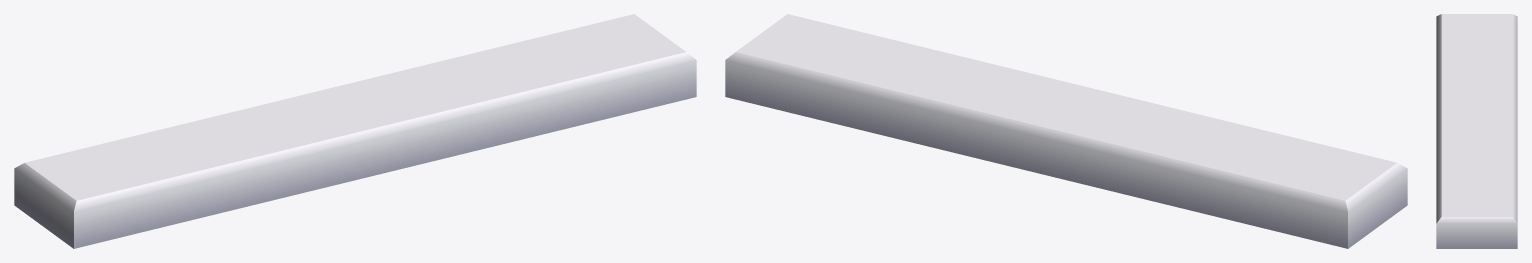
The model's file is none-hq-plate-1x6.glb.
The picture shows the model from 3 angles, left to right: view 1: azimuth 30°, elevation 25°; view 2: azimuth 150°, elevation 25°; view 3: azimuth 270°, elevation 25°; orthographic projection. The views are drawn at different scales.
Parts seen in each view (by area): view 1: none-hq-plate-1x6; view 2: none-hq-plate-1x6; view 3: none-hq-plate-1x6.
Part boxes in pixels (x1,y1,x2,y2): none-hq-plate-1x6: (14, 14, 696, 248); none-hq-plate-1x6: (725, 14, 1407, 248); none-hq-plate-1x6: (1436, 14, 1517, 248).
Size of the model in its own units: 0.477 by 0.032 by 0.079.
Materials: 1 (1 with a texture image).
